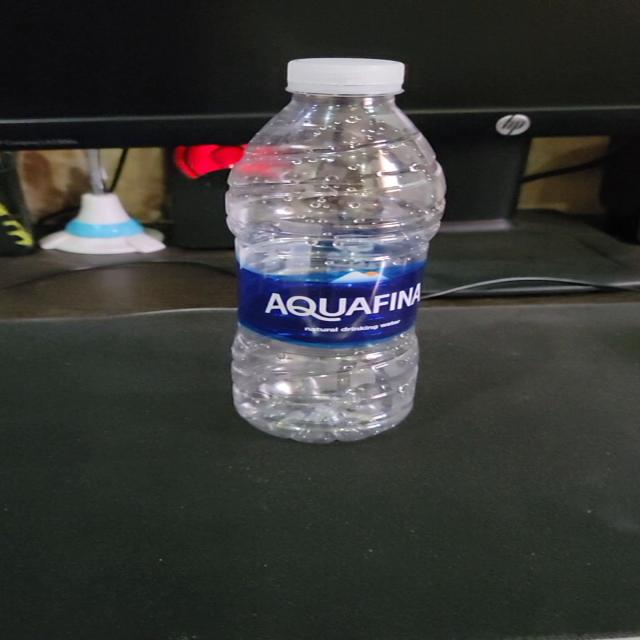Anorganik: (221, 54, 452, 442)
